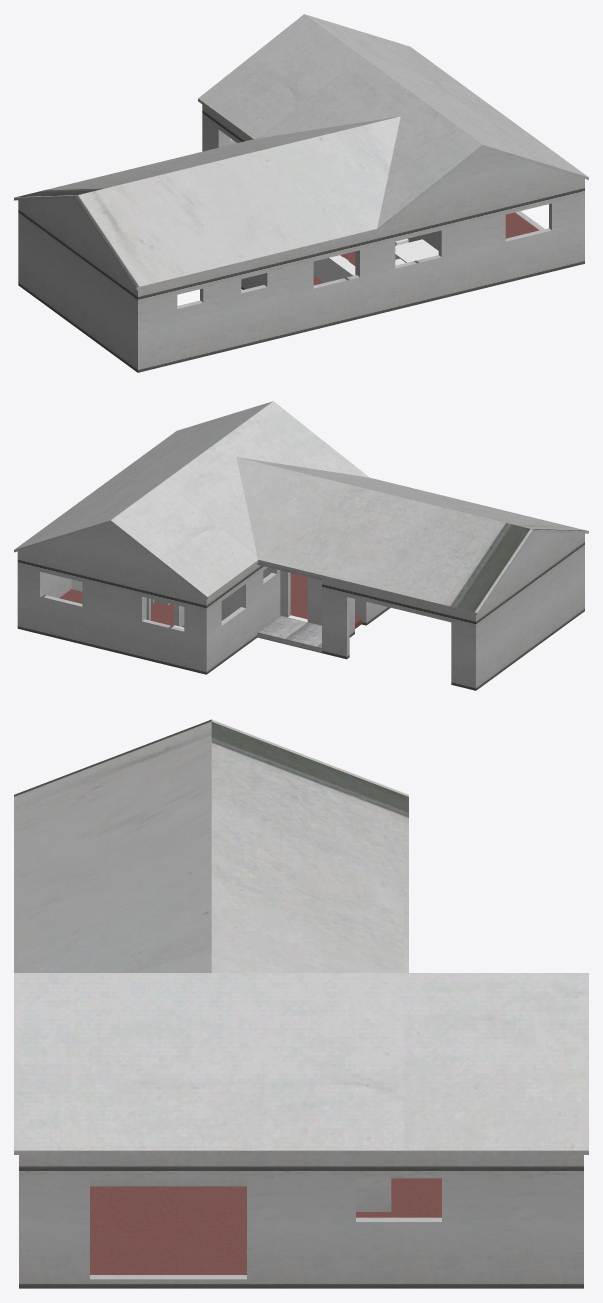
The picture shows the model from 3 angles, top to bottom: view 1: azimuth 30°, elevation 25°; view 2: azimuth 150°, elevation 25°; view 3: azimuth 270°, elevation 25°; orthographic projection. The views are drawn at different scales.
Visible parts, largest first — view 1: entity_0_geometry; view 2: entity_0_geometry; view 3: entity_0_geometry.
Boxes of the visible parts, x1,y1,x2,y2 form: entity_0_geometry: (14,14,588,372); entity_0_geometry: (14,401,588,690); entity_0_geometry: (14,719,588,1288).
Size of the model in its own units: 20.74 by 6.38 by 14.19.
5 materials, 4 textured.
